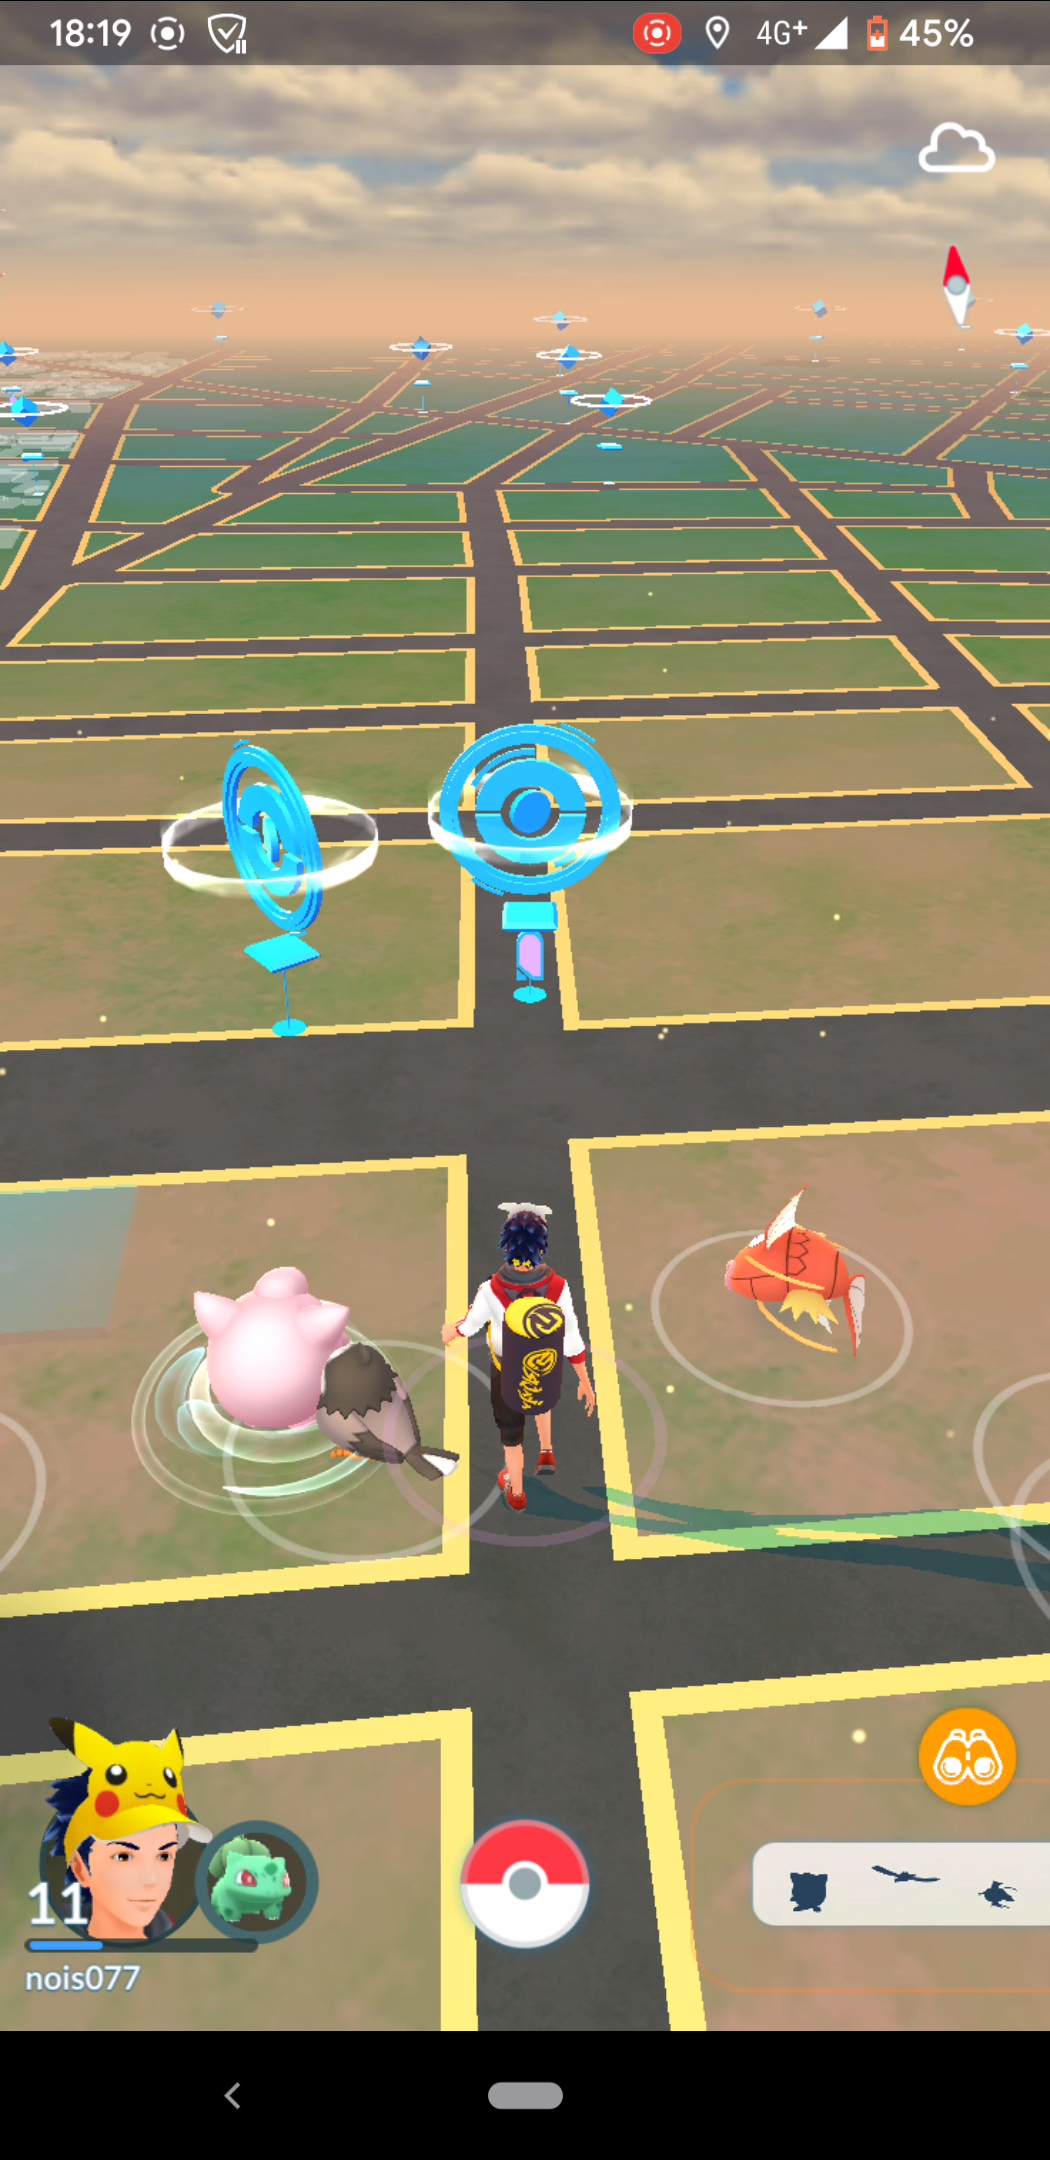pokestop: (434, 709, 632, 900), (209, 734, 349, 944)
